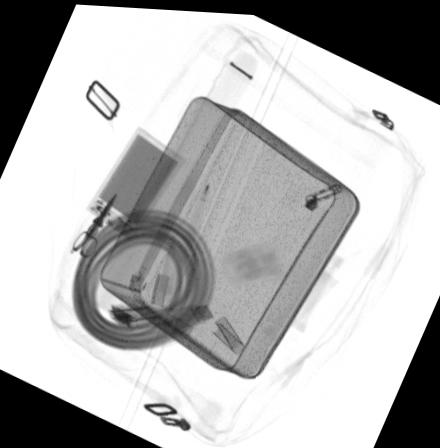Powerbank: (84, 122, 187, 240)
Scissors: (71, 190, 119, 258)
